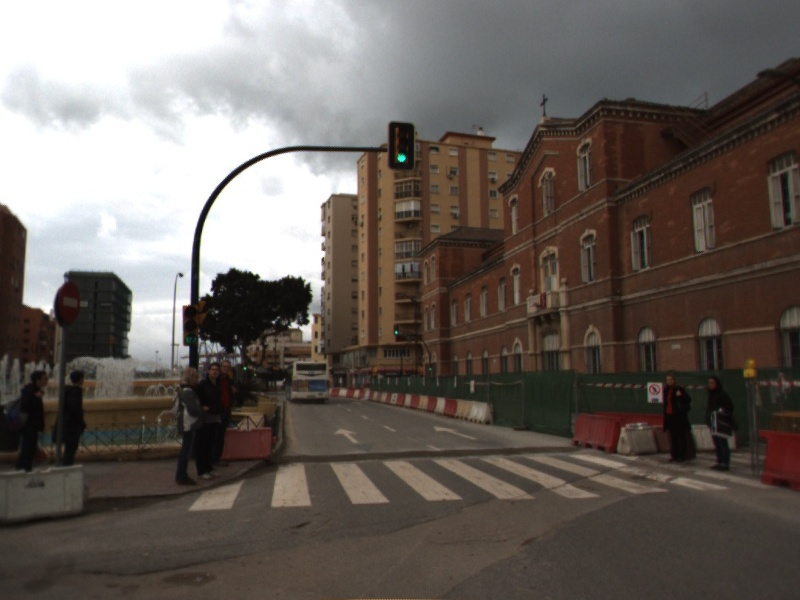STRAIGHT: (432, 423, 481, 442), (331, 426, 363, 445)
